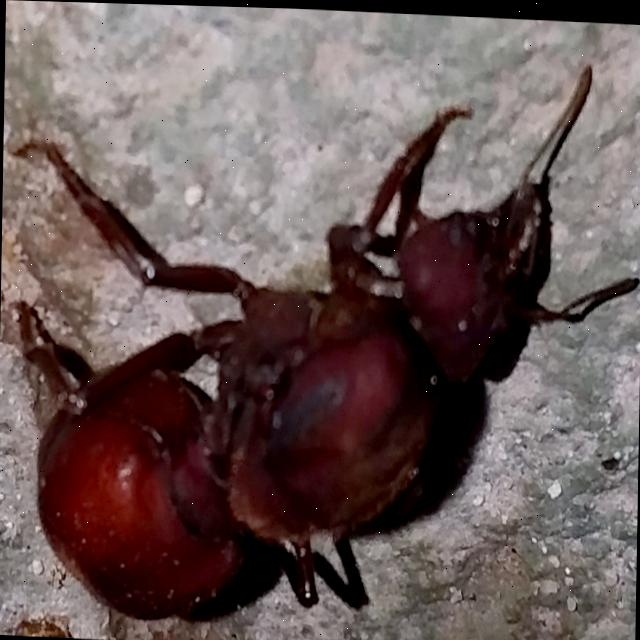Alive-Female-Dealate: (1, 35, 640, 640)
